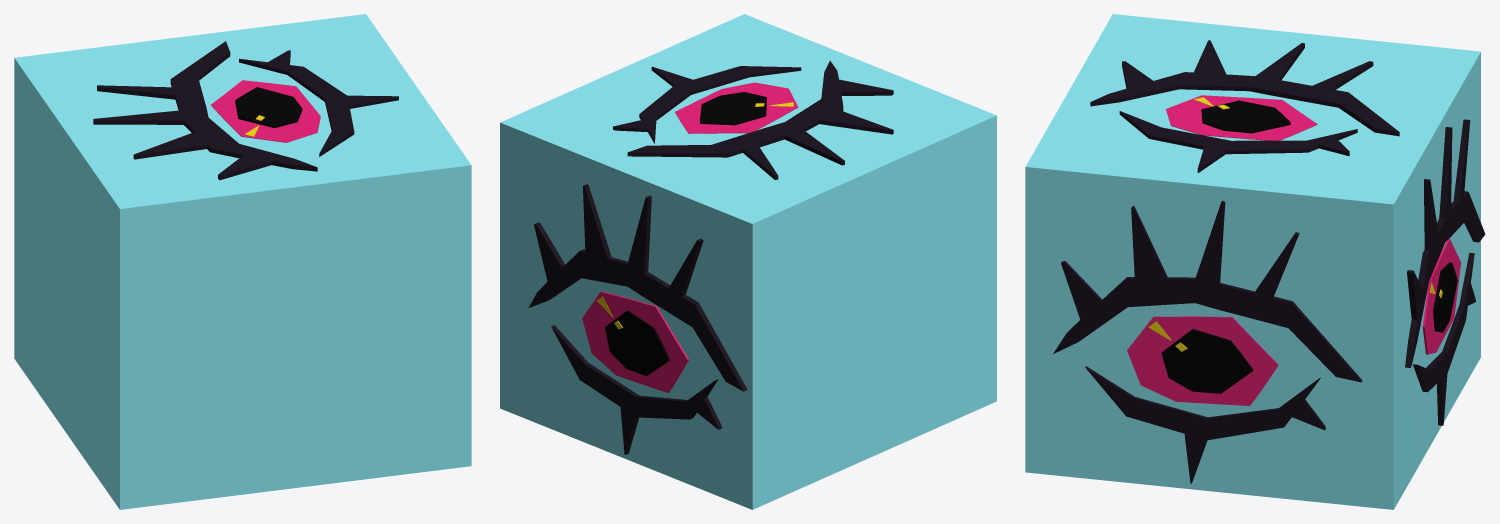
File: CUBO.fbx
The picture shows the model from 3 angles, left to right: view 1: azimuth 30°, elevation 25°; view 2: azimuth 150°, elevation 25°; view 3: azimuth 270°, elevation 25°; orthographic projection. The views are drawn at different scales.
Parts seen in each view (by area): view 1: Cube.006; view 2: Cube.006; view 3: Cube.006.
Boxes of the visible parts, left/top/right/bottom form: Cube.006: left=14, top=14, right=471, bottom=509; Cube.006: left=500, top=14, right=996, bottom=509; Cube.006: left=1025, top=14, right=1485, bottom=509.
Size of the model in its own units: 333 by 253 by 340.
